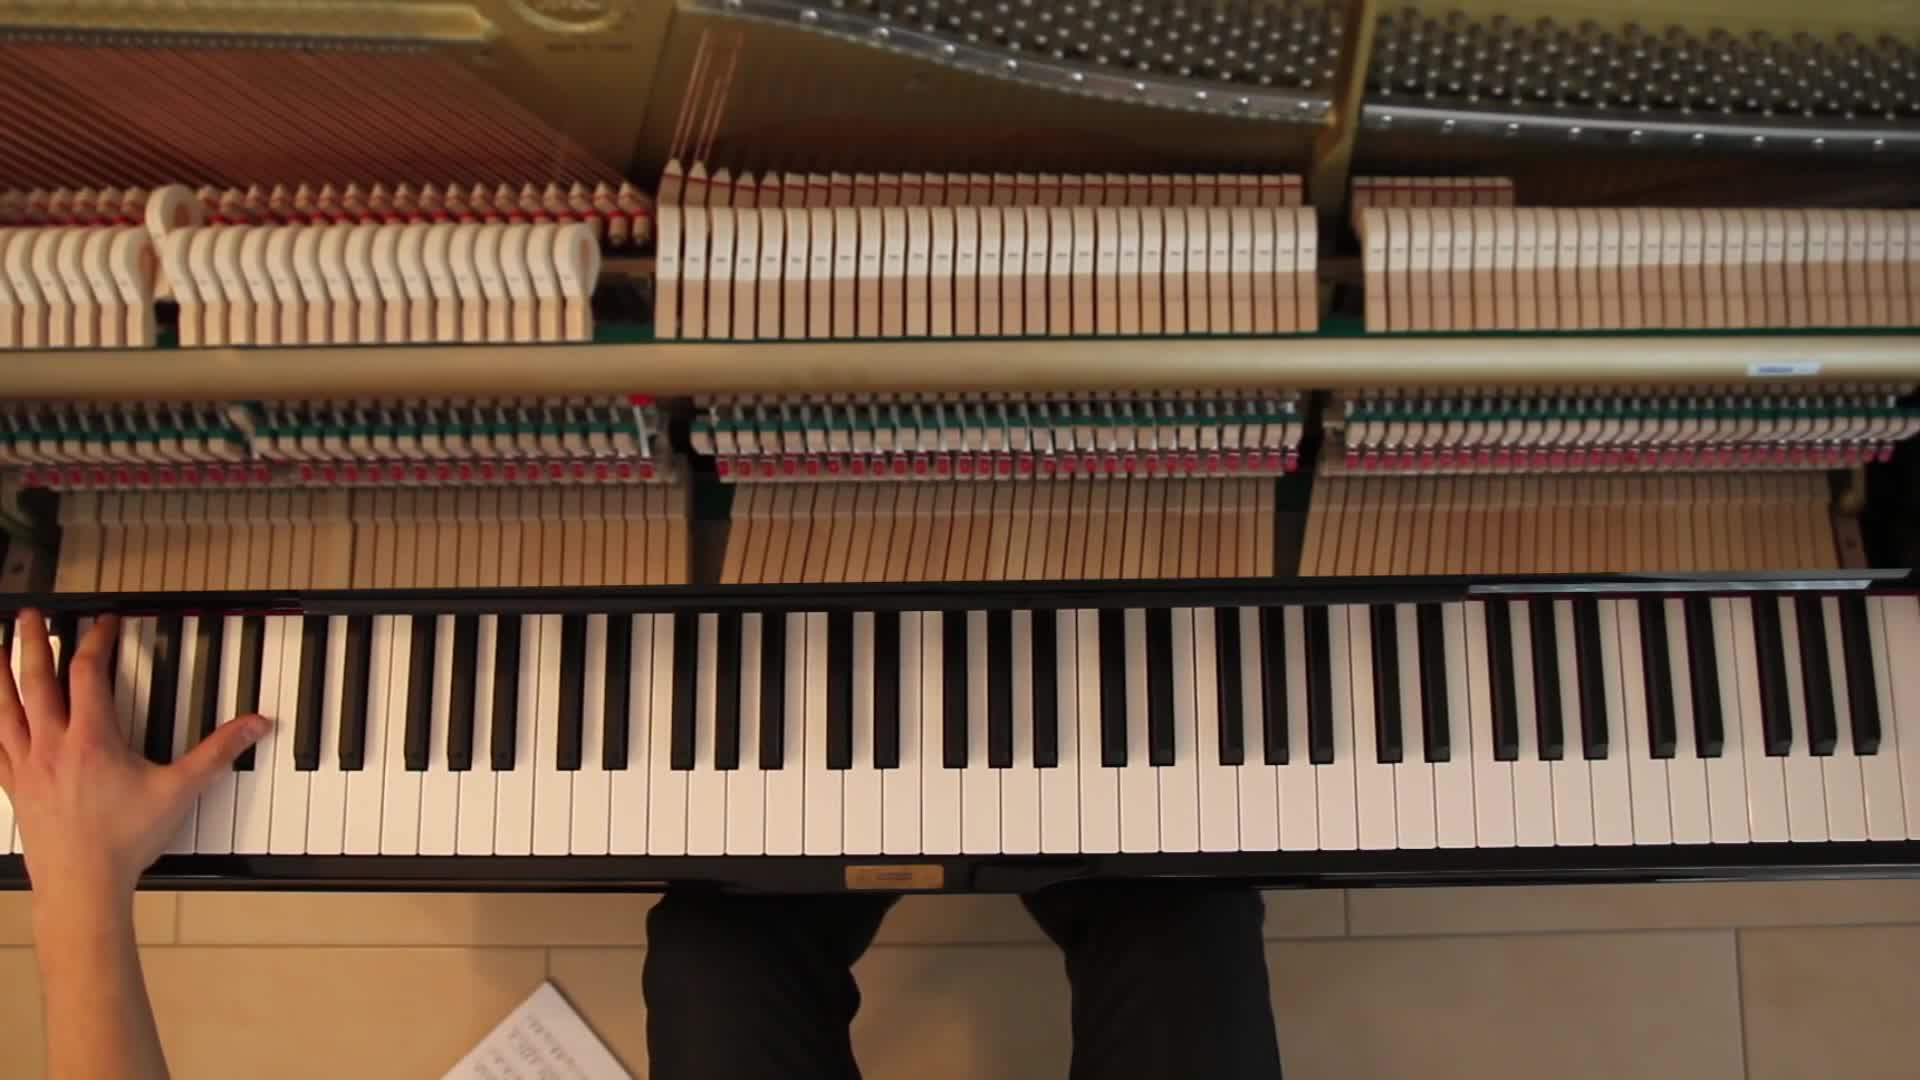left: (1, 603, 272, 887)
